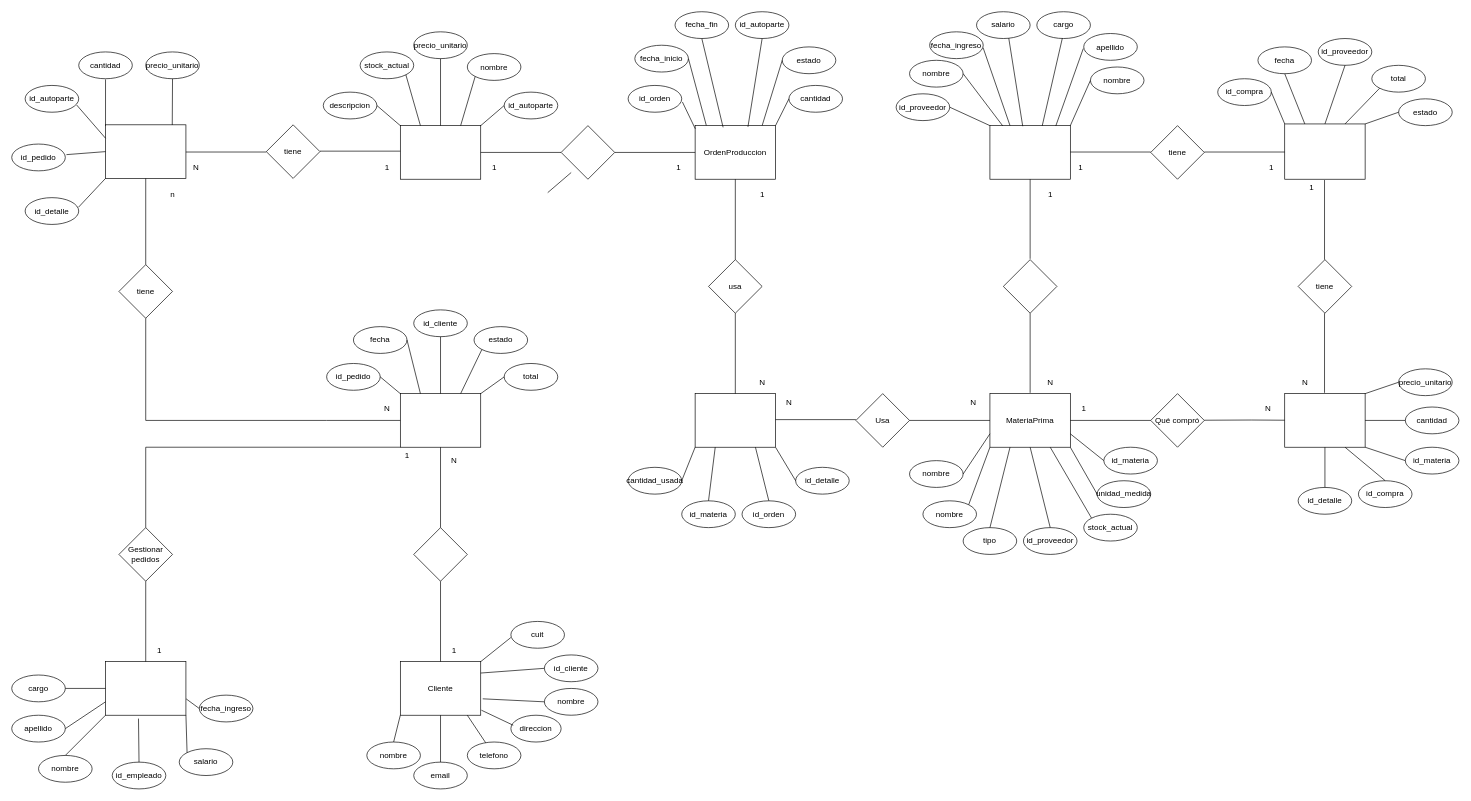
This 1471x801 diagram has some shape labels left out. The shapes that lost their labels are listed below. From the top down, each one's centre as x and y in pixels, then its label:
At (x=145, y=151): "DetallePedido".
At (x=440, y=152): "Autoparte".
At (x=587, y=152): "Produce".
At (x=1029, y=152): "Proveedor".
At (x=1324, y=151): "Compra".
At (x=1030, y=286): "ofrece".
At (x=440, y=420): "PedidoCliente".
At (x=735, y=420): "DetalleOrden".
At (x=1324, y=420): "DetalleCompra".
At (x=440, y=554): "hace".
At (x=145, y=688): "Empleado".
